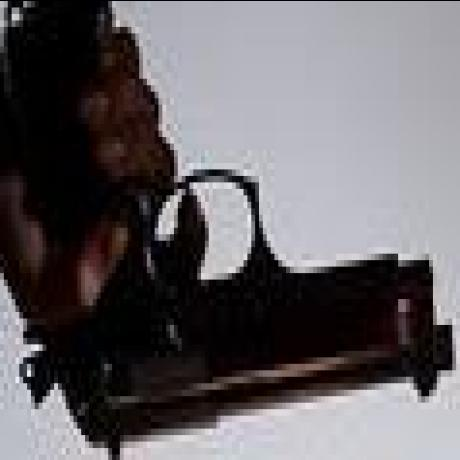1: (0, 0, 208, 319)
weapon: (17, 0, 460, 458)
